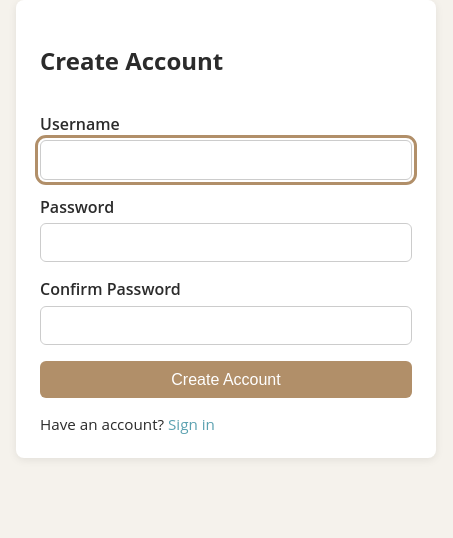
Test: Register client-side validation › blocks submission when the password is too short
Type "alice" into the field labelled "Username" at (226,160), box [40, 140, 412, 180]
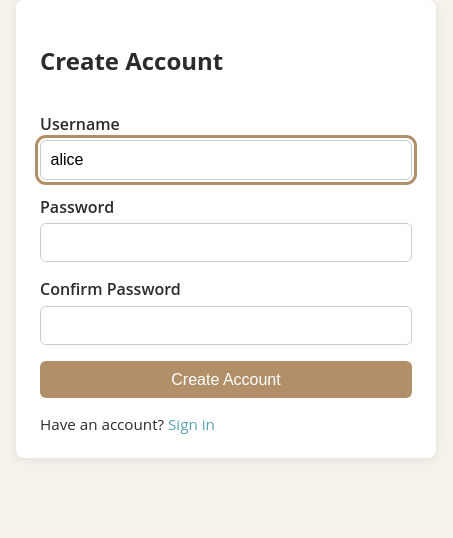
Type "short" into the password field labelled "Password" at (226,243), box [40, 223, 412, 262]
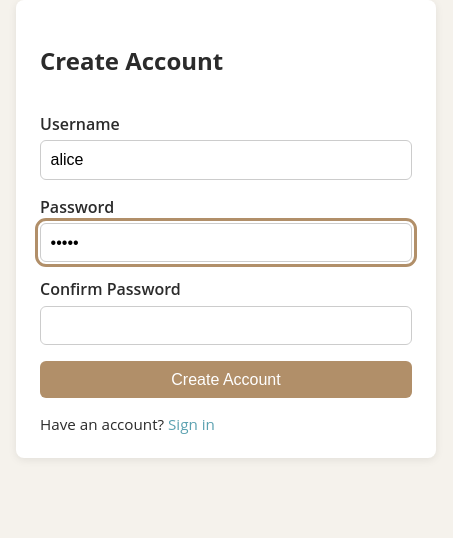
Type "short" into the password field labelled "Confirm Password" at (226,326), box [40, 306, 412, 345]
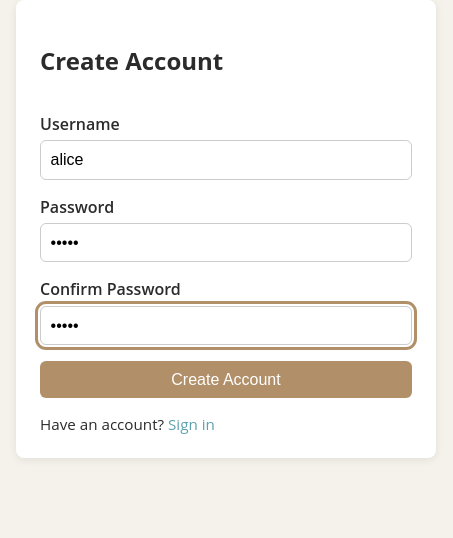
Click the button "Create Account" at (226,380), box [40, 361, 412, 398]
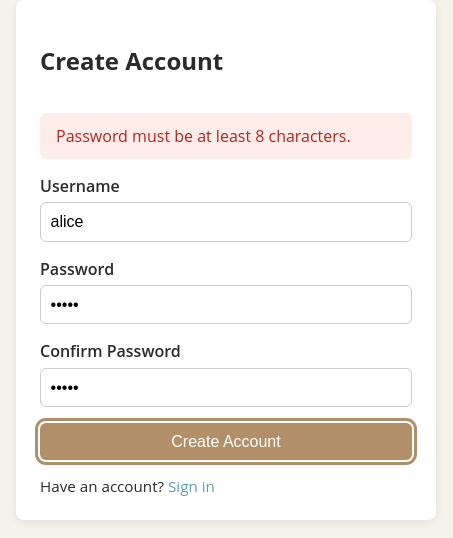
Now the message shows "at least 8", box [56, 125, 351, 147]
